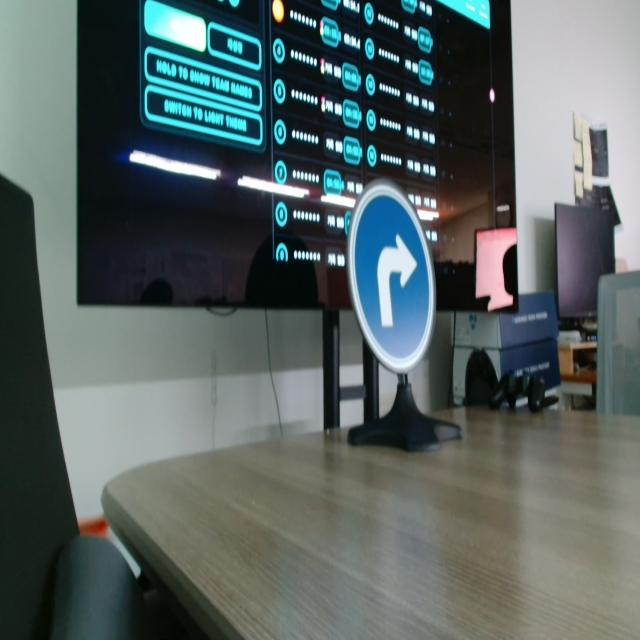right_dierection: (337, 164, 446, 390)
